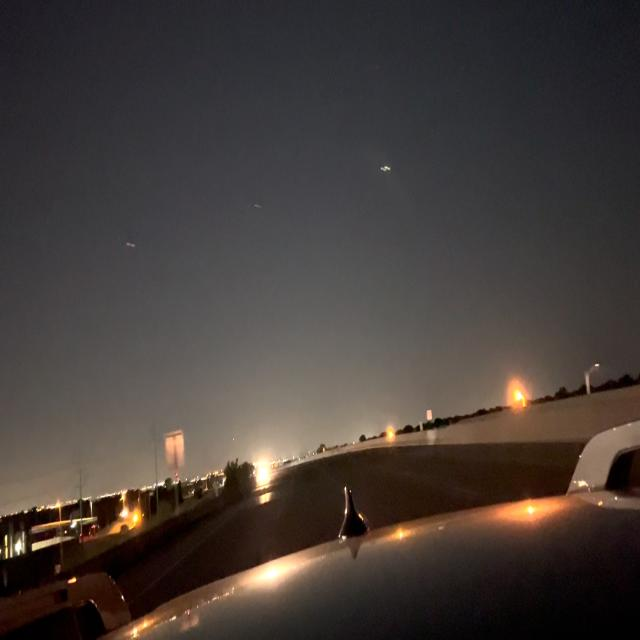back-of-sign: (164, 430, 186, 470)
